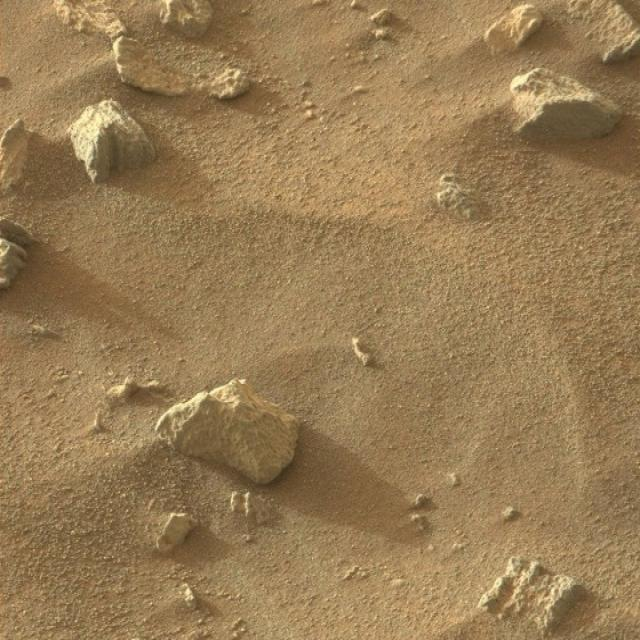mars-rocks: (155, 379, 299, 484), (112, 35, 250, 99), (512, 68, 623, 138), (68, 99, 155, 182), (485, 3, 543, 54)
